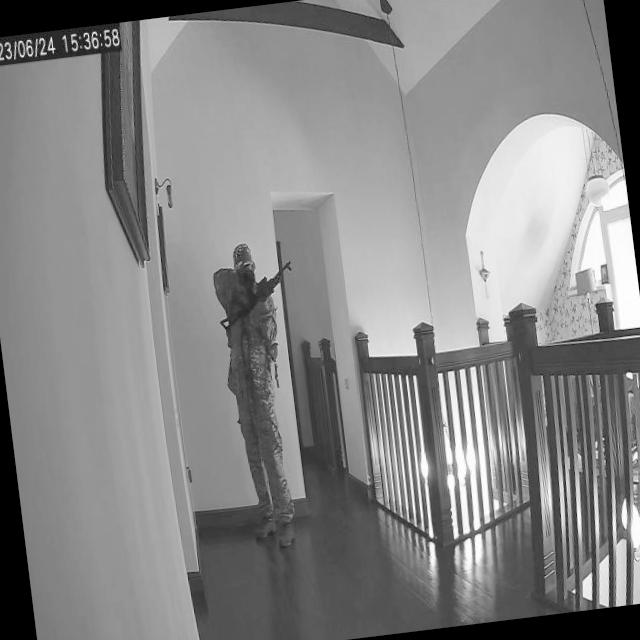gun: (214, 256, 300, 337)
person with a gun: (210, 236, 332, 560)
